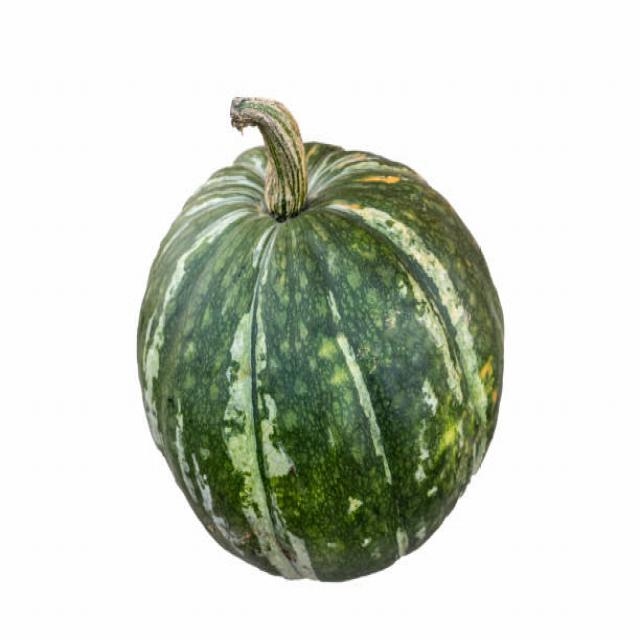Pumpkin: (138, 129, 511, 586)
